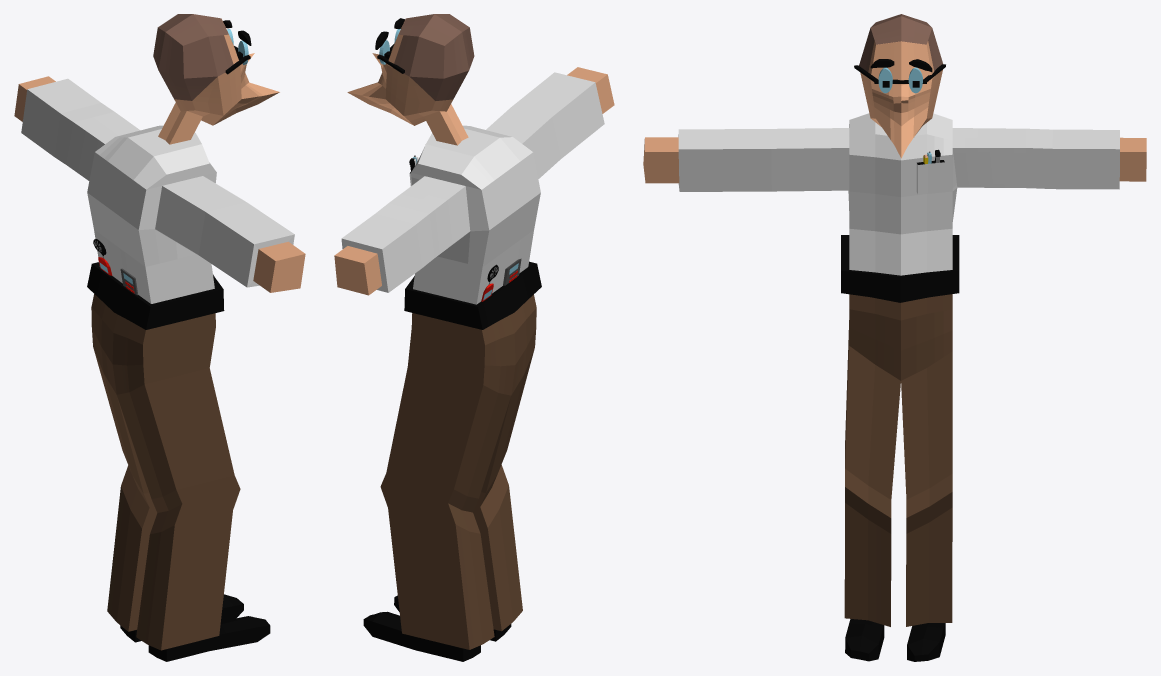
Rendered from personaje.fbx.
3 renders of one model, left to right at view 1: azimuth 30°, elevation 25°; view 2: azimuth 150°, elevation 25°; view 3: azimuth 270°, elevation 25°, orthographic.
Parts seen in each view (by area): view 1: OjoD; view 2: OjoD; view 3: OjoD.
Boxes of the visible parts, <box> form: OjoD: <box>14,14,305,661</box>; OjoD: <box>334,14,614,661</box>; OjoD: <box>643,14,1146,661</box>.
Bounding box in the file's own units: 152 × 536 × 393.
